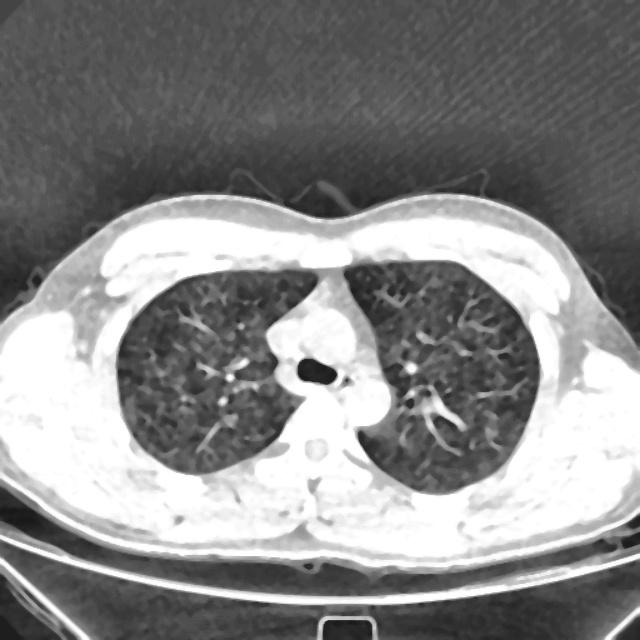covid: (0, 187, 639, 583)
